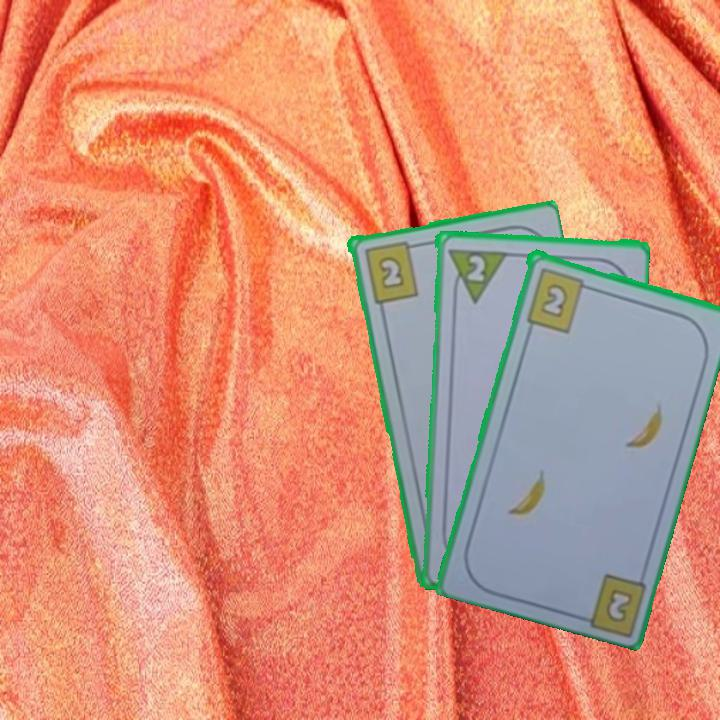2b: (522, 264, 595, 335), (360, 237, 421, 306), (604, 588, 632, 622)
2p: (443, 244, 508, 305)
